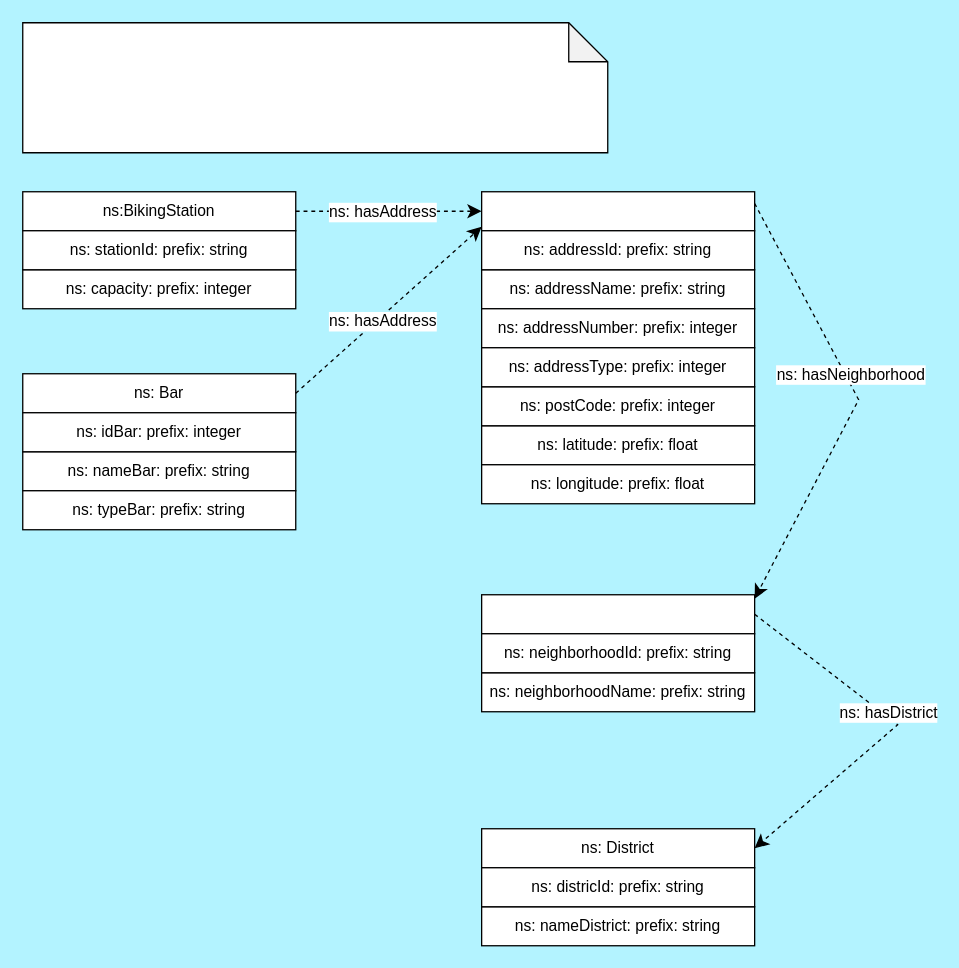
The diagram is 959 pixels wide and 968 high, and some of its shapes have lost their labels. Each missing label, with the box of its shape:
ns: Address: (480, 190, 755, 231)
ns: http://www.barnabikes.org/ODKG/handsOn/group10/: (21, 21, 608, 153)
ns: Neighborhood: (480, 593, 755, 634)
